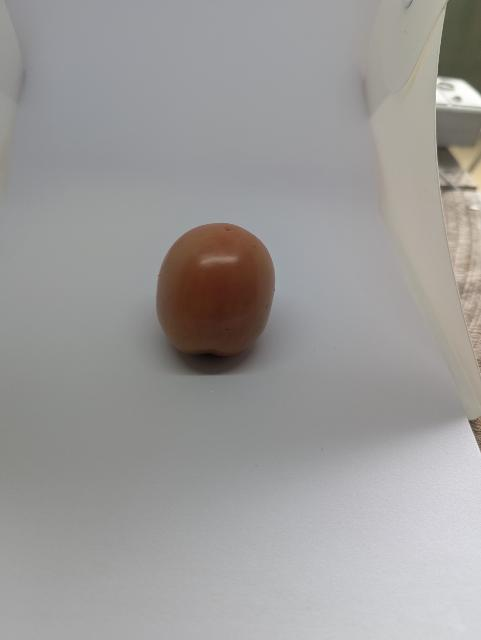turning: (154, 220, 279, 363)
